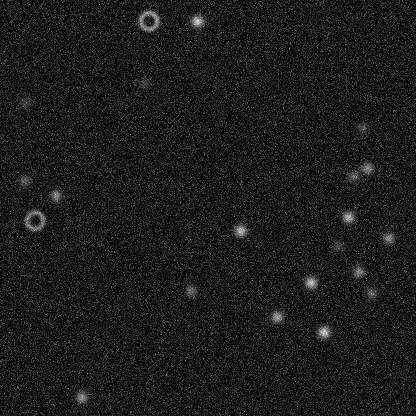Ring: (22, 208, 46, 232), (136, 8, 160, 32)
Spot: (47, 187, 63, 203), (329, 237, 345, 253), (315, 323, 331, 339), (354, 119, 370, 135), (359, 159, 375, 175), (380, 230, 396, 246), (182, 282, 198, 298), (350, 263, 366, 279), (232, 222, 248, 238), (269, 308, 285, 324), (189, 13, 205, 29), (17, 94, 33, 110), (345, 167, 361, 183), (363, 284, 379, 300), (136, 74, 152, 90), (73, 389, 89, 405), (340, 208, 356, 224), (302, 274, 318, 290), (16, 172, 32, 188)
